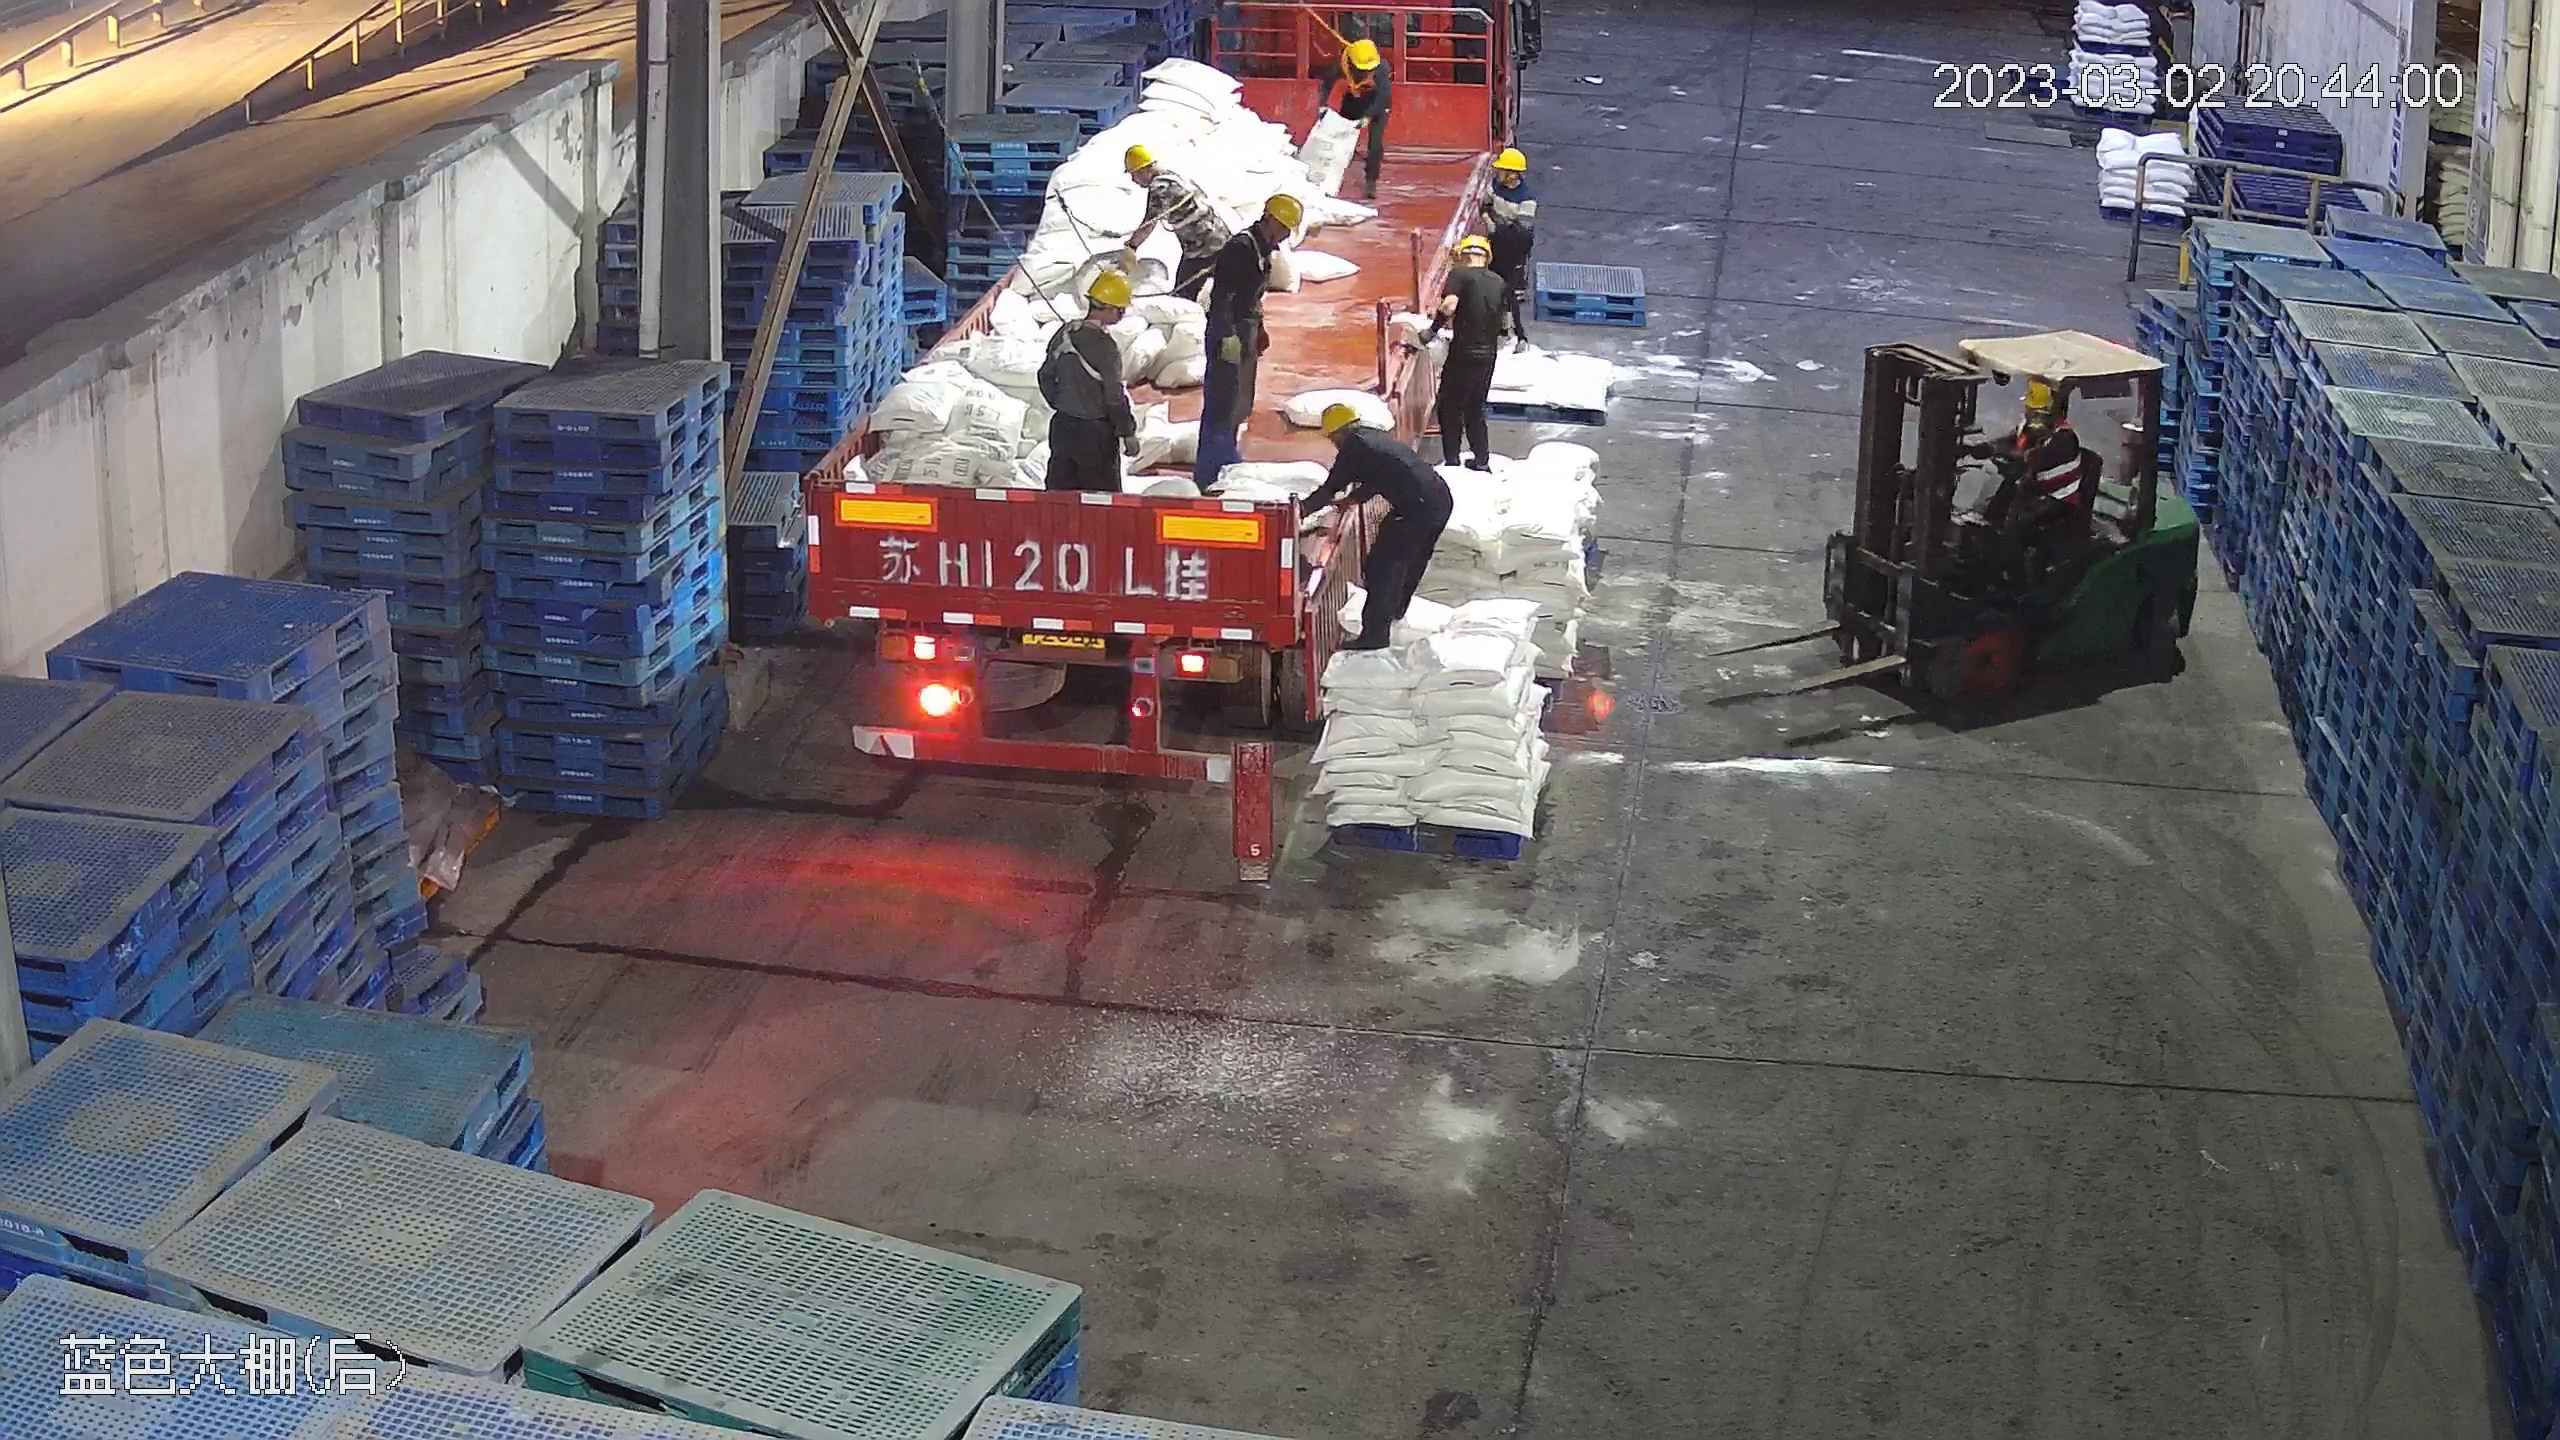belt: (1218, 216, 1292, 286), (1045, 315, 1113, 384), (1474, 146, 1533, 224), (1152, 174, 1209, 231), (1341, 43, 1374, 98)
head: (1046, 267, 1136, 370), (1313, 398, 1409, 486), (1220, 192, 1303, 271), (1442, 229, 1510, 318), (1121, 142, 1197, 211), (1470, 145, 1531, 223), (1322, 36, 1389, 99)
helmet: (1082, 267, 1134, 306), (1264, 190, 1306, 233), (1317, 400, 1364, 437), (1448, 231, 1493, 265), (1344, 36, 1379, 69), (1487, 146, 1528, 174), (1120, 141, 1156, 173), (2023, 381, 2057, 407)
people: (1018, 26, 1431, 675), (1298, 397, 1452, 657), (1189, 181, 1304, 486), (1036, 267, 1144, 494), (1426, 228, 1509, 476), (1111, 152, 1228, 311), (1304, 31, 1391, 200), (1484, 145, 1542, 340)
truck: (814, 14, 1484, 782)
